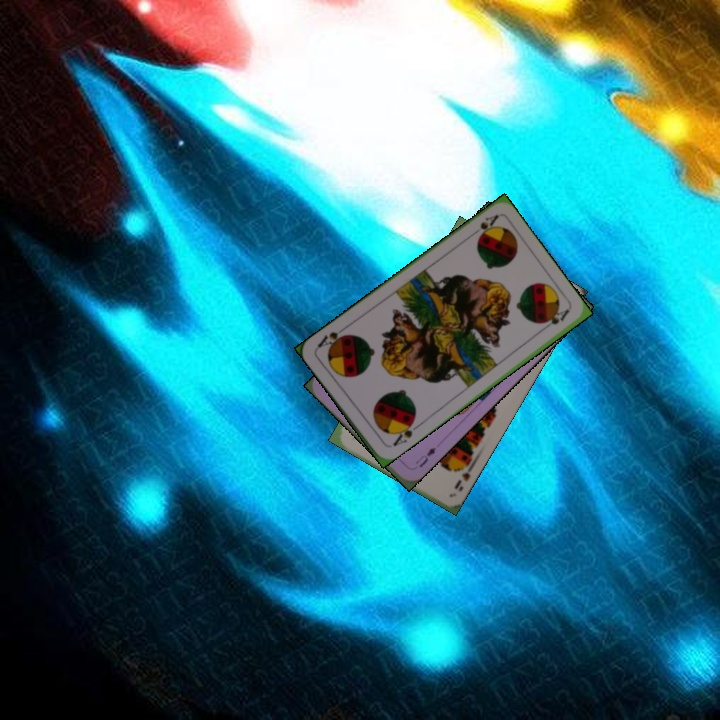EU: (411, 443, 439, 470)
S9: (450, 458, 477, 492)
SA: (465, 211, 501, 242), (388, 416, 421, 449)
